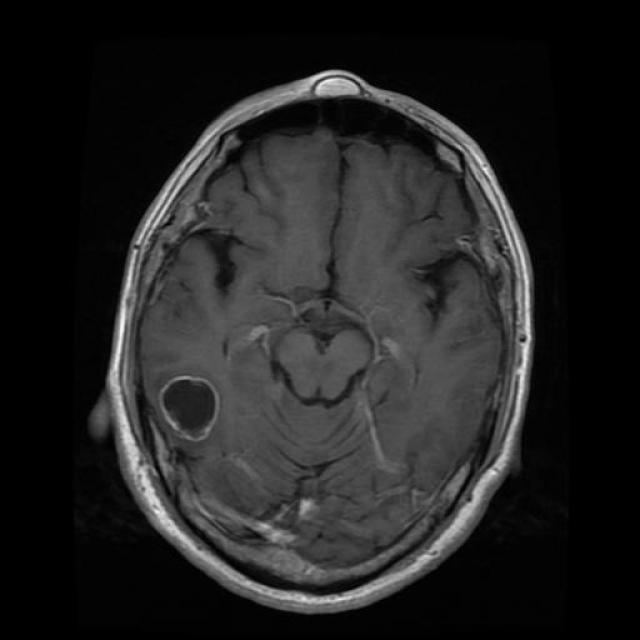brain_tumor: (159, 378, 219, 441)
